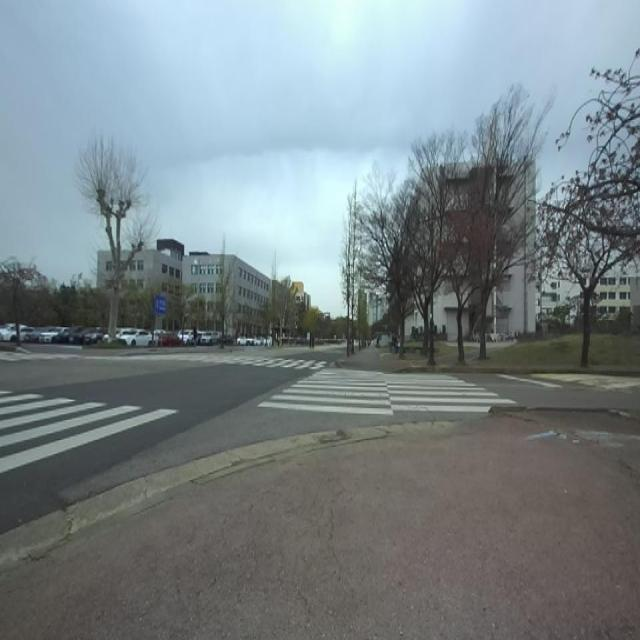sidewalk: (0, 410, 640, 639), (344, 345, 383, 370)
